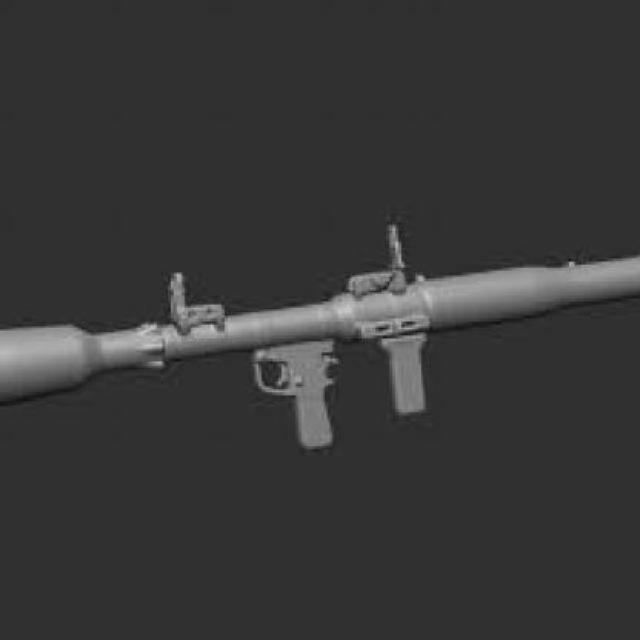weapon: (0, 201, 640, 457)
